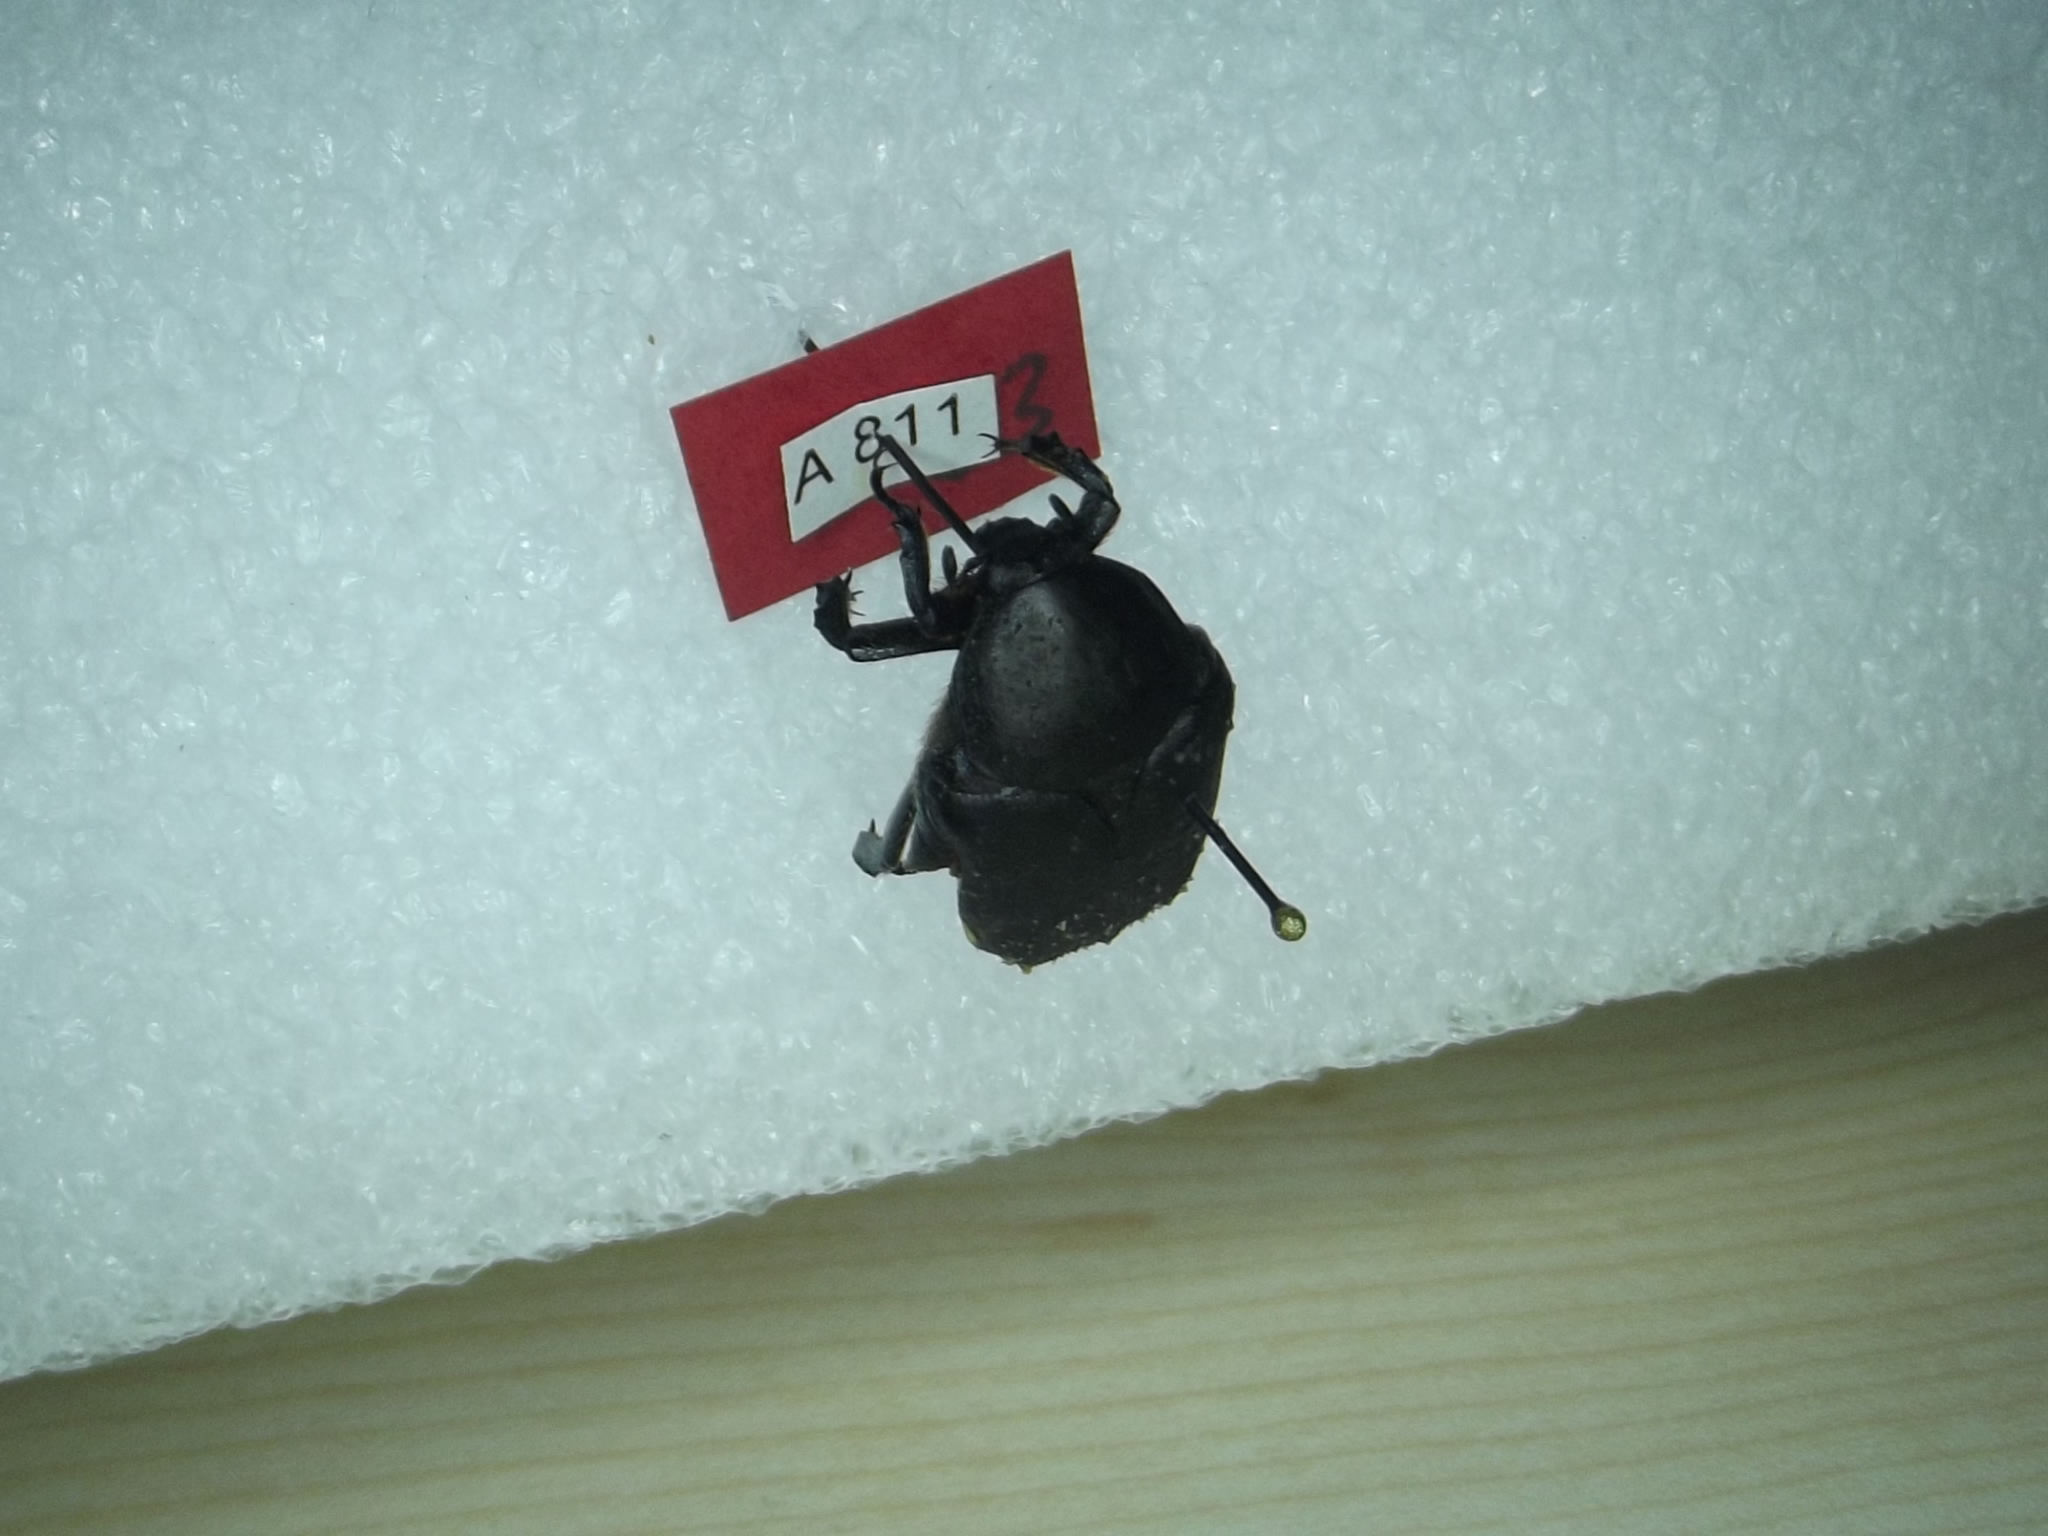Protaetia_oblonga: (801, 400, 1306, 995)
